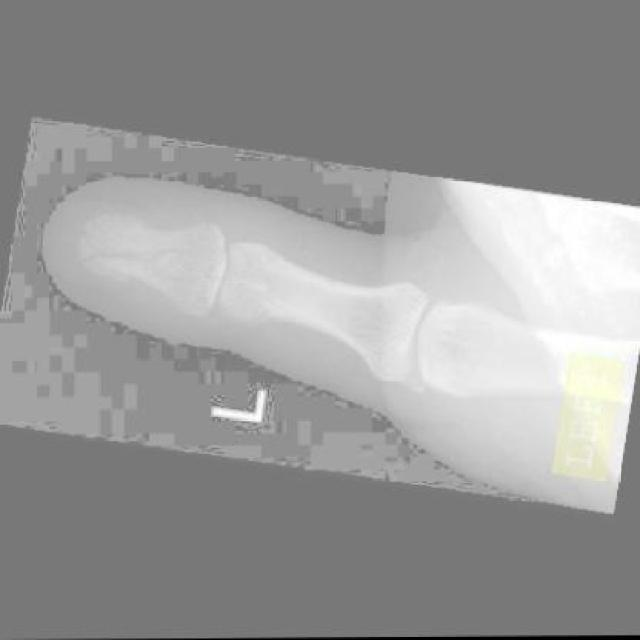Fracture: (77, 215, 185, 299)
